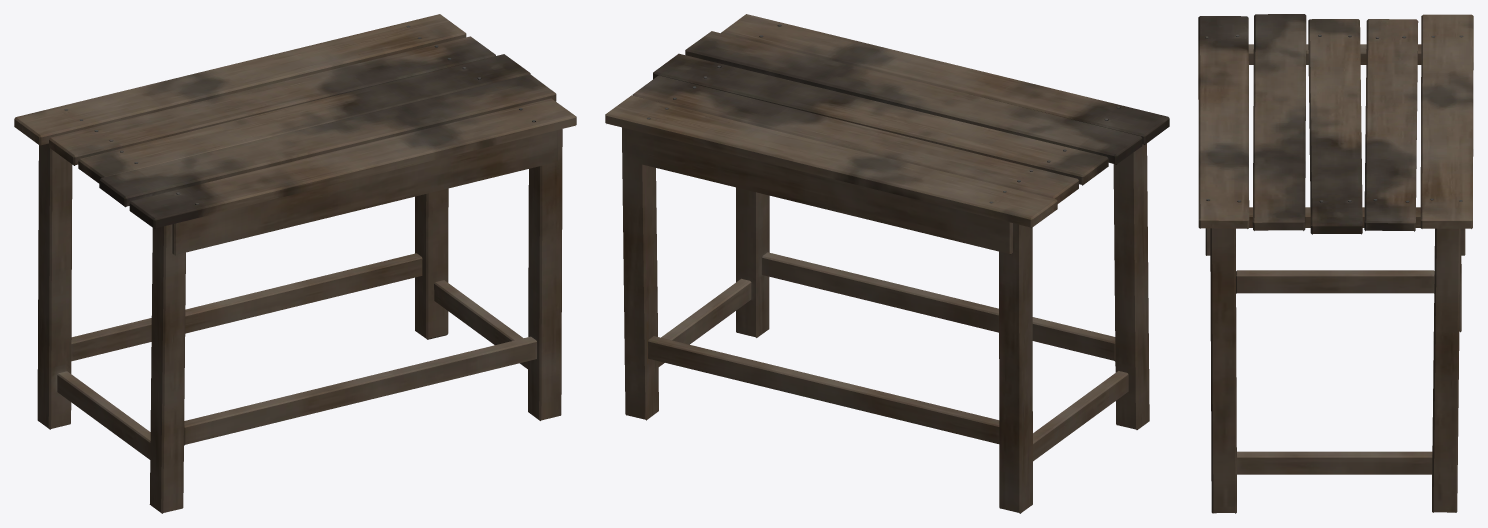
File: bench.glb
3 views of the same model, side by side, from view 1: azimuth 30°, elevation 25°; view 2: azimuth 150°, elevation 25°; view 3: azimuth 270°, elevation 25° (orthographic).
Visible parts, largest first — view 1: bench; view 2: bench; view 3: bench.
Part boxes in pixels (x1=…): bench: x1=14, y1=14, x2=576, y2=513; bench: x1=605, y1=14, x2=1169, y2=513; bench: x1=1198, y1=14, x2=1473, y2=513.
Bounding box in the file's own units: 1.17 × 0.7836 × 0.6489.
1 material, 1 textured.
